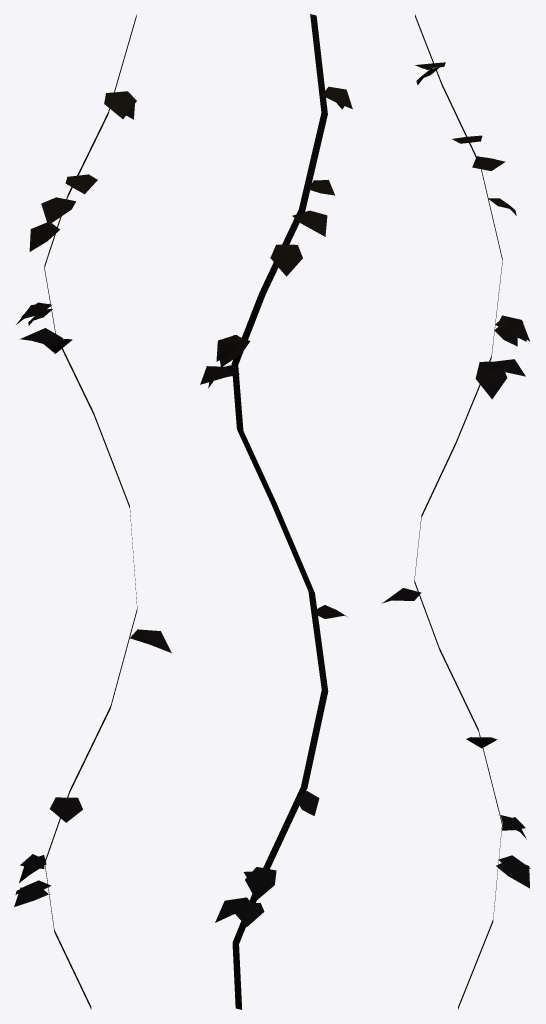
File: trunk_vine_b.glb
3 renders of one model, left to right at view 1: azimuth 90°, elevation 25°; view 2: azimuth 150°, elevation 25°; view 3: azimuth 270°, elevation 25°, orthographic. The views are drawn at different scales.
Parts seen in each view (by area): view 1: trunk_vine_b; view 2: trunk_vine_b; view 3: trunk_vine_b.
Part boxes in pixels (x1,y1,x2,y2): trunk_vine_b: [14, 14, 171, 1009]; trunk_vine_b: [200, 14, 352, 1009]; trunk_vine_b: [382, 14, 530, 1009].
Size of the model in its own units: 0.6639 by 5.2 by 0.7305.
1 material, 1 textured.
